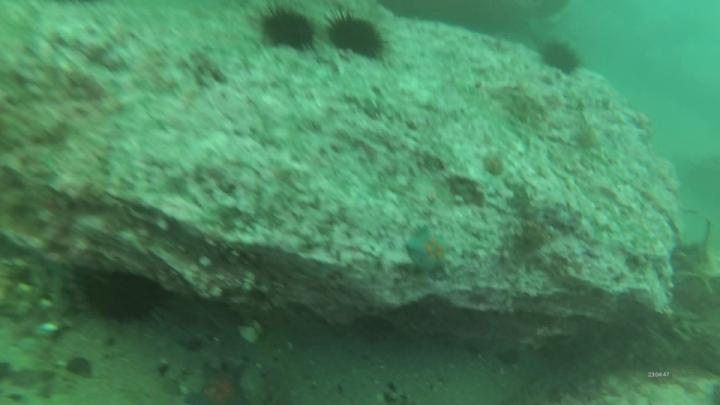echinus: (92, 277, 163, 322), (331, 18, 382, 57), (264, 12, 311, 49), (542, 43, 581, 70)
starfish: (188, 364, 249, 405), (406, 226, 450, 273)
